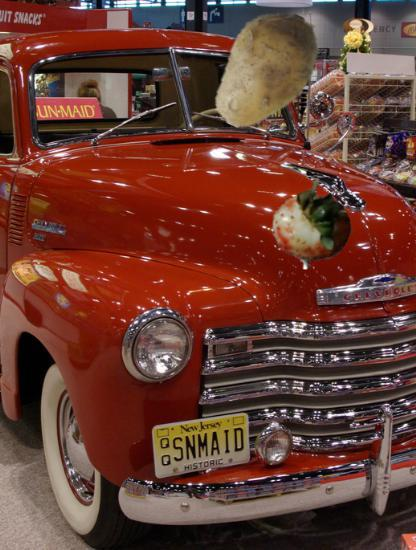Potato: (203, 7, 332, 136)
Strawberry: (267, 178, 360, 271)
